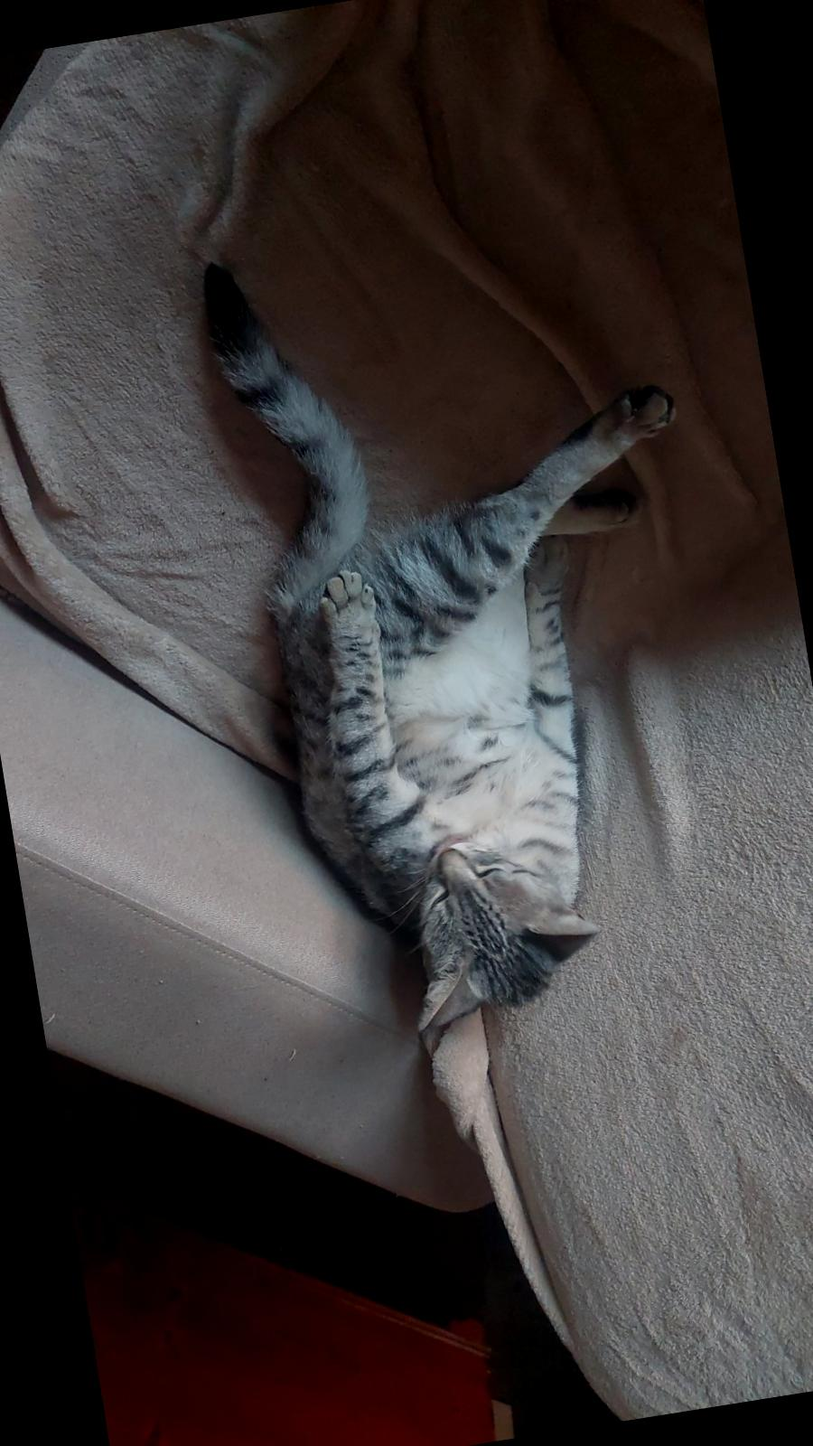macka: (201, 195, 771, 1047)
